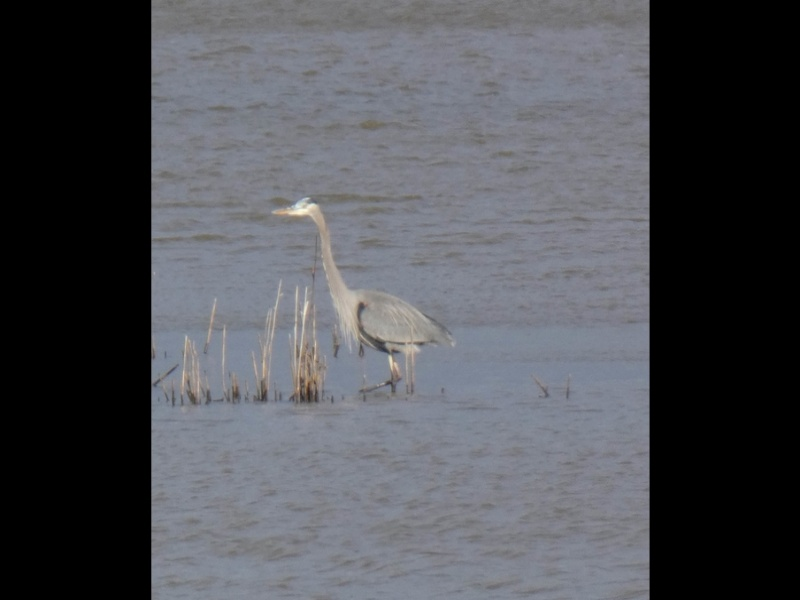heron: (271, 195, 455, 396)
